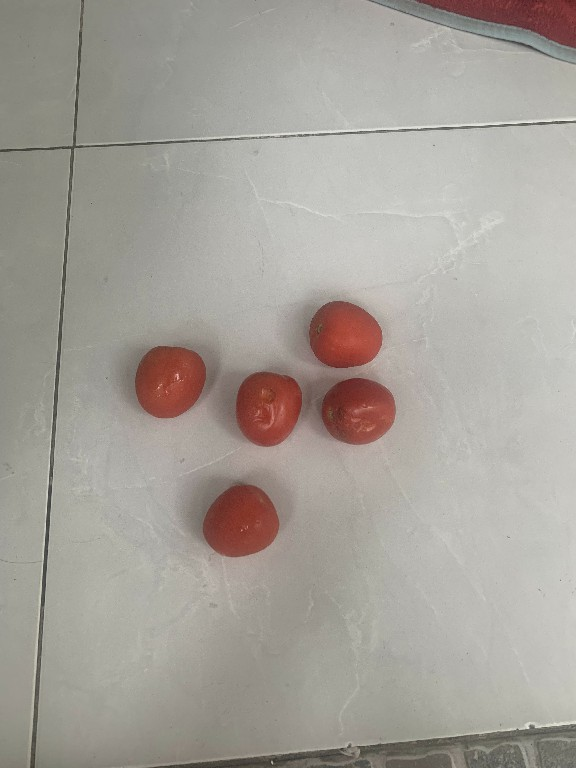NG: (229, 362, 314, 449), (316, 376, 398, 445)
OK: (193, 482, 283, 560), (303, 293, 388, 372), (131, 342, 207, 428)
